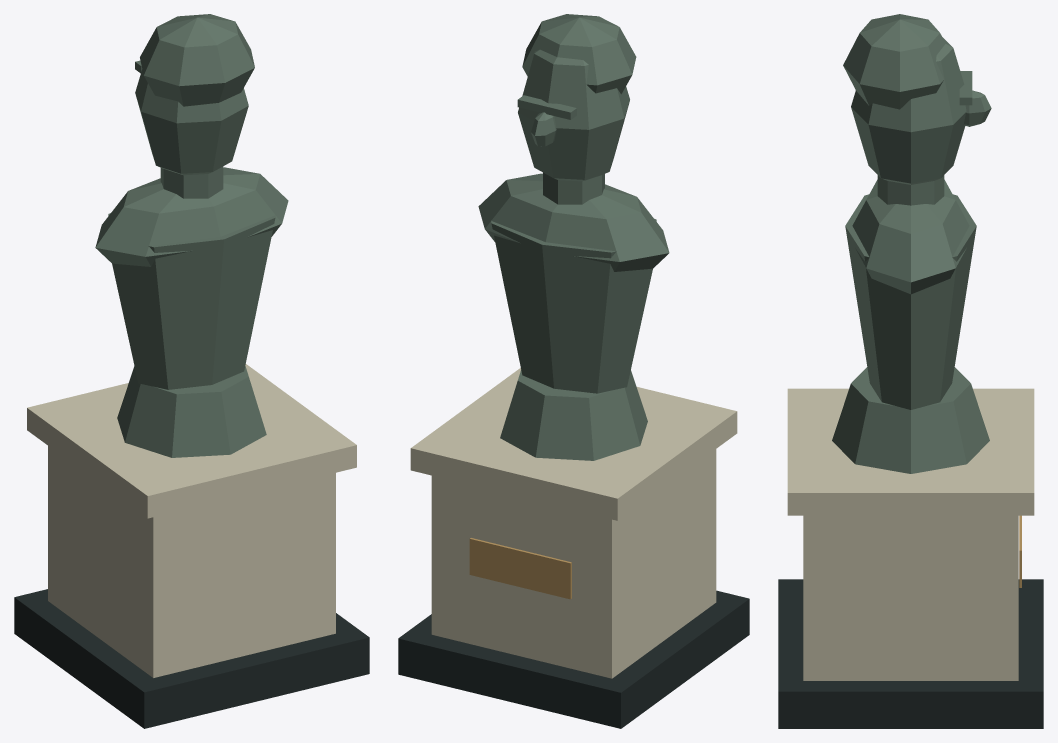
The model's file is LP_Central_StatueSE.fbx.
3 views of the same model, side by side, from view 1: azimuth 30°, elevation 25°; view 2: azimuth 150°, elevation 25°; view 3: azimuth 270°, elevation 25° (orthographic). The views are drawn at different scales.
Parts seen in each view (by area): view 1: M_Central_Limestone, M_Central_PatinatedBronze, Charcoal; view 2: M_Central_Limestone, M_Central_PatinatedBronze, Charcoal, AgedBrass; view 3: M_Central_Limestone, M_Central_PatinatedBronze, Charcoal.
Part boxes in pixels (box(x1,y1,x2,y2)): M_Central_Limestone: box(27, 364, 356, 677); M_Central_PatinatedBronze: box(95, 14, 288, 457); Charcoal: box(14, 589, 369, 728); M_Central_Limestone: box(410, 368, 737, 678); M_Central_PatinatedBronze: box(478, 14, 669, 460); Charcoal: box(398, 590, 749, 728); AgedBrass: box(469, 538, 571, 599); M_Central_Limestone: box(787, 388, 1034, 680); M_Central_PatinatedBronze: box(832, 14, 991, 473); Charcoal: box(778, 579, 1043, 728).
Bounding box in the file's own units: 84 × 228 × 84.
